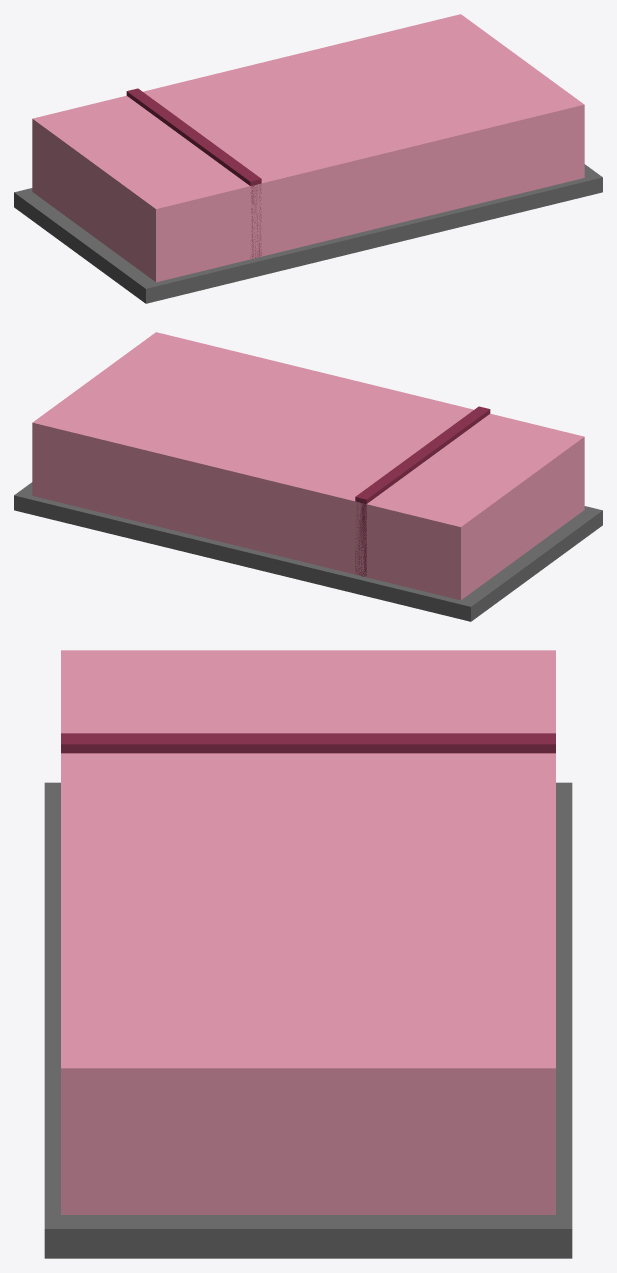
File: ticket_book.glb
The picture shows the model from 3 angles, top to bottom: view 1: azimuth 30°, elevation 25°; view 2: azimuth 150°, elevation 25°; view 3: azimuth 270°, elevation 25°; orthographic projection. The views are drawn at different scales.
Visible parts, largest first — view 1: pad_ticket_pink, back_book_grey, stub_stub_line; view 2: pad_ticket_pink, back_book_grey, stub_stub_line; view 3: pad_ticket_pink, back_book_grey, stub_stub_line.
Boxes of the visible parts, x1=… form: pad_ticket_pink: x1=32, y1=14, x2=584, y2=282; back_book_grey: x1=14, y1=164, x2=602, y2=303; stub_stub_line: x1=126, y1=88, x2=261, y2=258; pad_ticket_pink: x1=32, y1=332, x2=584, y2=600; back_book_grey: x1=14, y1=482, x2=602, y2=621; stub_stub_line: x1=355, y1=406, x2=490, y2=576; pad_ticket_pink: x1=61, y1=650, x2=555, y2=1214; back_book_grey: x1=44, y1=782, x2=572, y2=1258; stub_stub_line: x1=61, y1=733, x2=555, y2=753.
Bounding box in the file's own units: 0.16 × 0.031 × 0.08.
